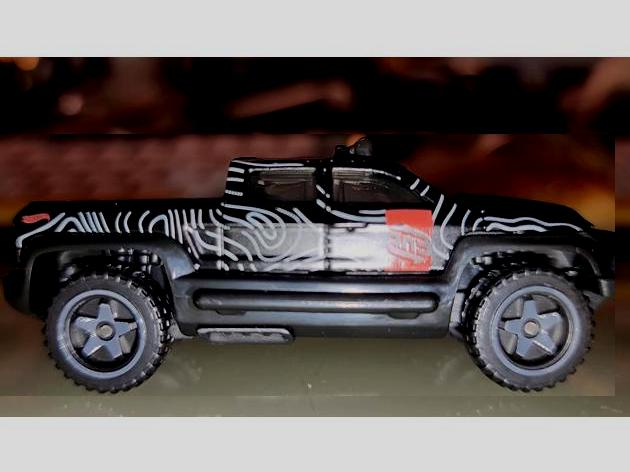toy-car: (0, 134, 615, 396)
